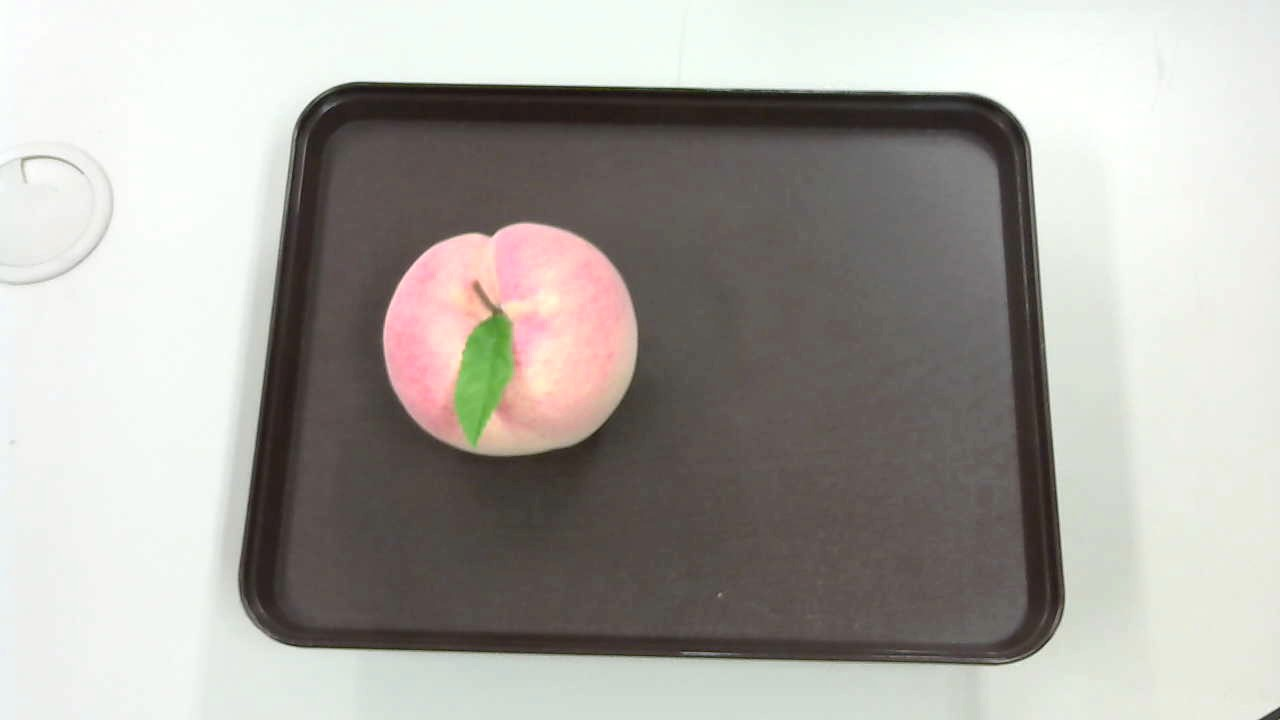peach: (376, 217, 649, 466)
